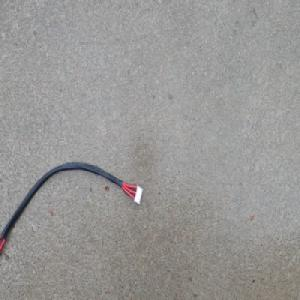Wire: (0, 160, 144, 260)
